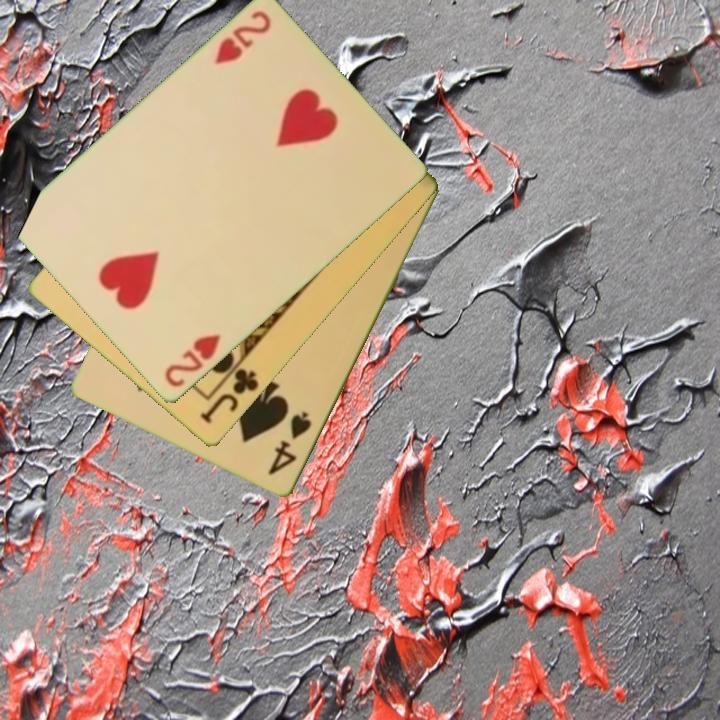2h: (211, 7, 274, 69), (161, 330, 224, 391)
4s: (264, 408, 315, 479)
Jc: (196, 356, 262, 428)
